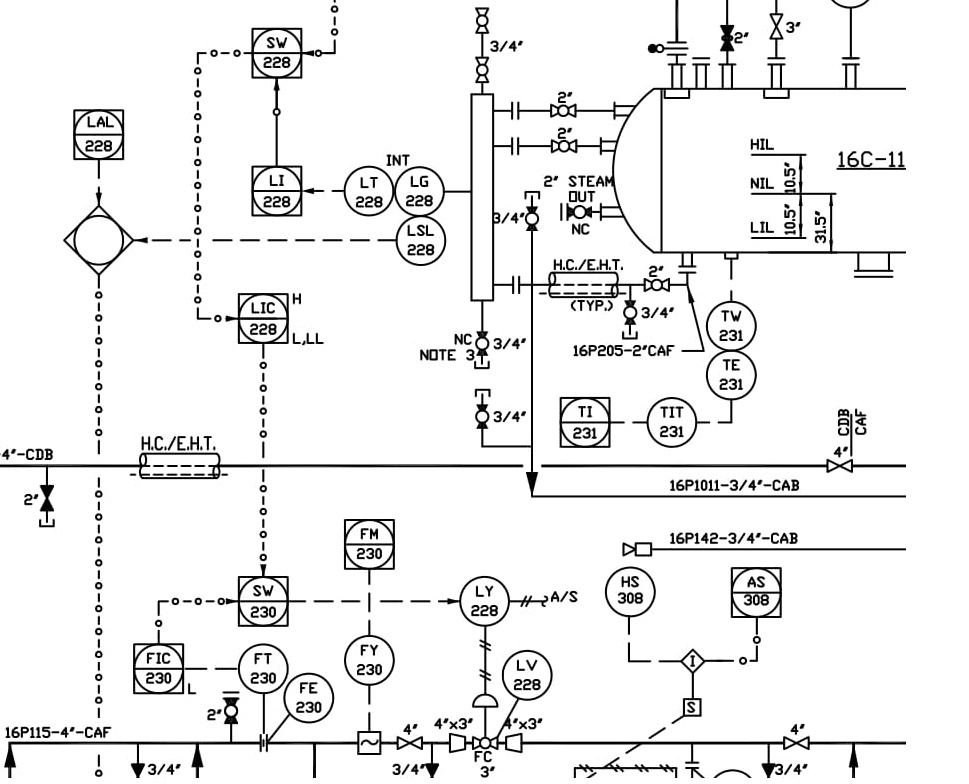Inline Instrument: (457, 573, 511, 628), (604, 564, 658, 619), (500, 648, 554, 703), (343, 632, 397, 687), (236, 641, 290, 696), (394, 214, 448, 269), (642, 392, 696, 447), (706, 296, 760, 351), (341, 161, 395, 216)
Panel Instrument: (69, 105, 127, 165), (249, 23, 307, 83), (247, 160, 305, 220), (341, 515, 399, 575), (233, 570, 291, 630), (129, 639, 187, 699), (727, 560, 785, 620), (557, 390, 615, 450), (236, 289, 294, 349)
